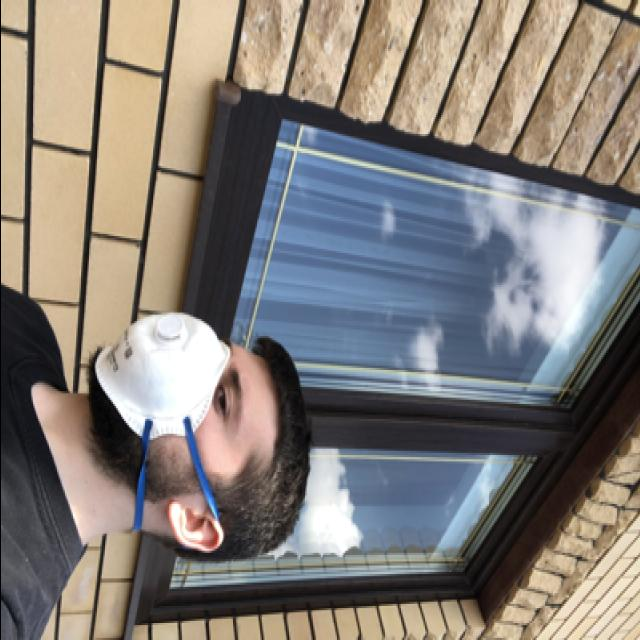mask: (88, 310, 251, 460)
